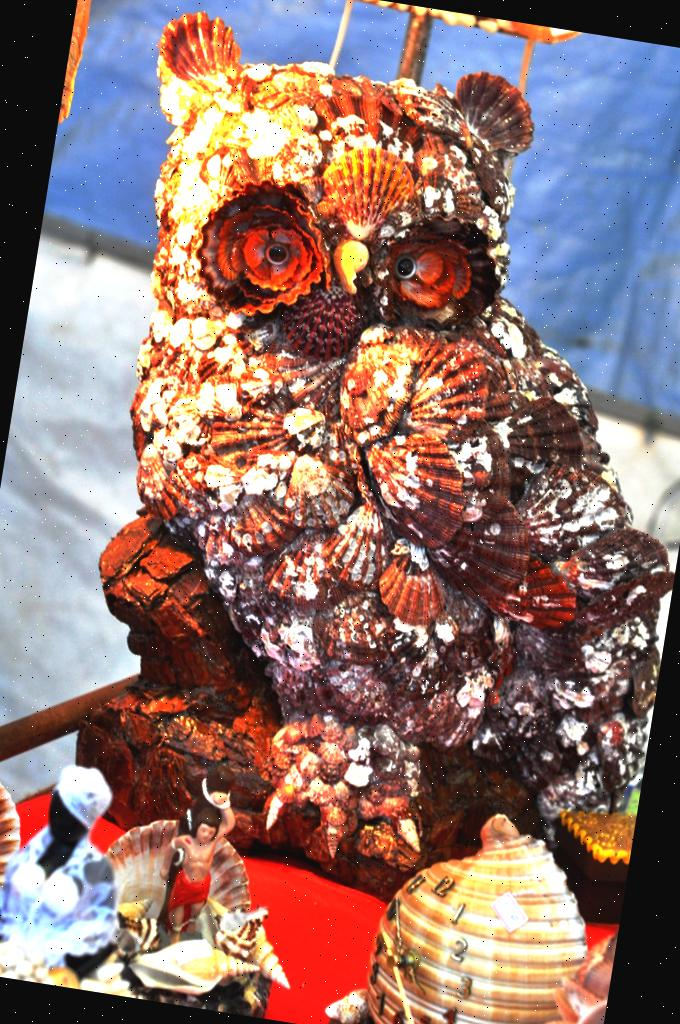Owl: (37, 0, 680, 905)
